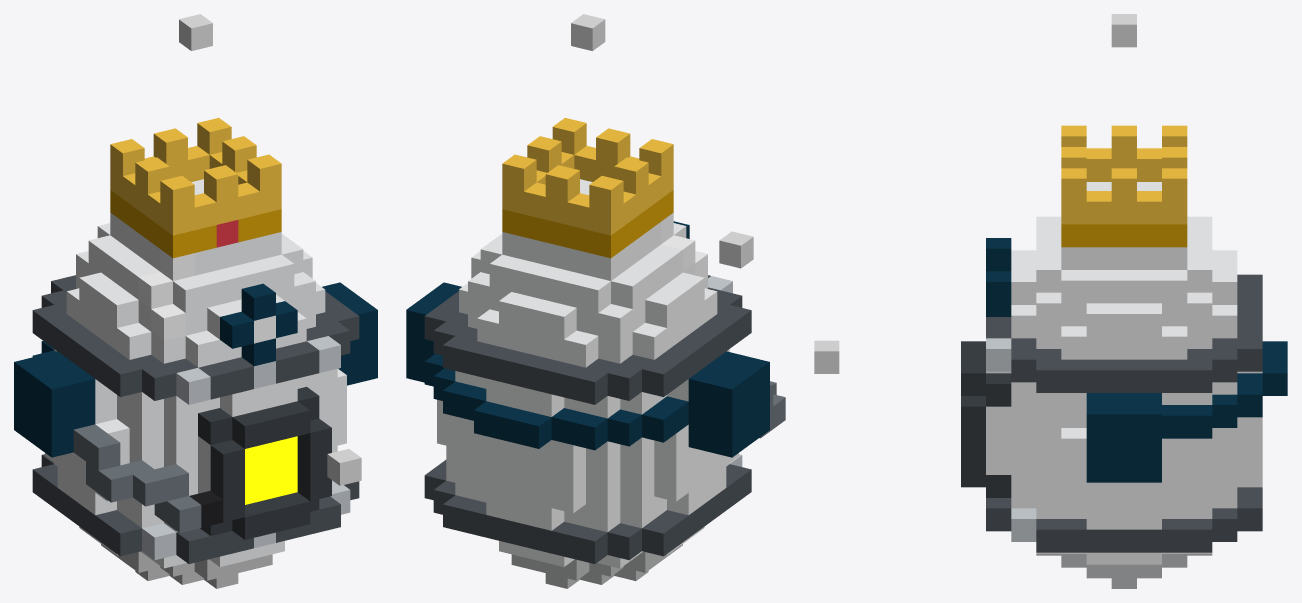
Rendered from Egg_Haruto.fbx.
3 views of the same model, side by side, from view 1: azimuth 30°, elevation 25°; view 2: azimuth 150°, elevation 25°; view 3: azimuth 270°, elevation 25° (orthographic).
Parts seen in each view (by area): view 1: Egg, Egg__Tint_100, Ornament, Egg__Neon_F77F00, Egg__Tint_080, FrontMarker, TopMarker; view 2: Egg__Tint_100, Egg, Ornament, Egg__Tint_080, FrontMarker, TopMarker; view 3: Egg__Tint_100, Egg, Ornament, Egg__Tint_080, FrontMarker, TopMarker.
Boxes of the visible parts, bbox=[...] form: Egg: bbox=[14, 249, 377, 563]; Egg__Tint_100: bbox=[45, 179, 346, 568]; Ornament: bbox=[110, 117, 281, 258]; Egg__Neon_F77F00: bbox=[245, 436, 297, 504]; Egg__Tint_080: bbox=[101, 544, 272, 588]; FrontMarker: bbox=[327, 449, 361, 485]; TopMarker: bbox=[179, 14, 212, 50]; Egg__Tint_100: bbox=[437, 179, 738, 568]; Egg: bbox=[406, 213, 785, 563]; Ornament: bbox=[502, 117, 673, 258]; Egg__Tint_080: bbox=[511, 544, 682, 588]; FrontMarker: bbox=[719, 231, 753, 268]; TopMarker: bbox=[571, 14, 605, 50]; Egg__Tint_100: bbox=[986, 182, 1262, 564]; Egg: bbox=[961, 238, 1287, 552]; Ornament: bbox=[1061, 125, 1187, 247]; Egg__Tint_080: bbox=[1036, 554, 1212, 588]; FrontMarker: bbox=[814, 340, 839, 373]; TopMarker: bbox=[1111, 14, 1136, 47].
Bounding box in the file's own units: 2.81 × 4.47 × 3.53.
